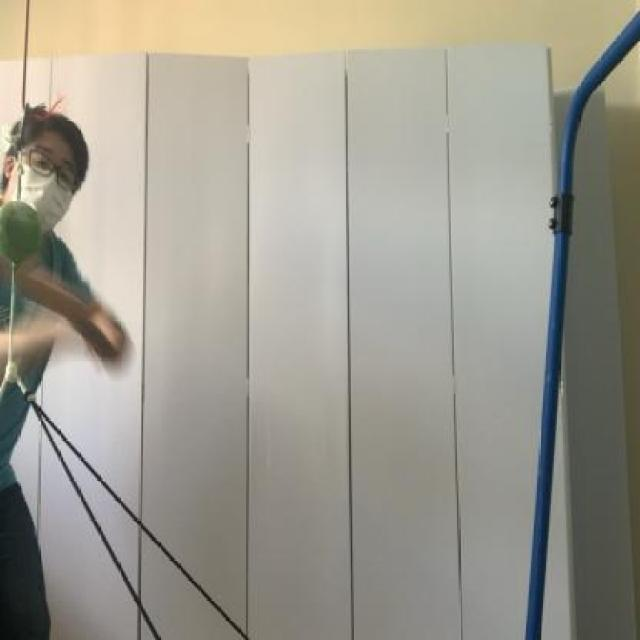baseball: (0, 194, 54, 281)
